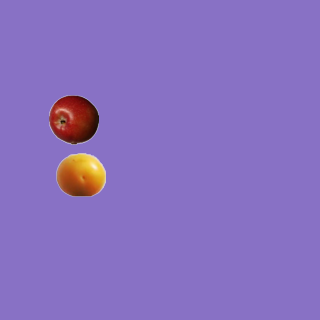Apple Braeburn: (48, 94, 98, 144)
Cherry Wax Yellow: (55, 149, 105, 199)
